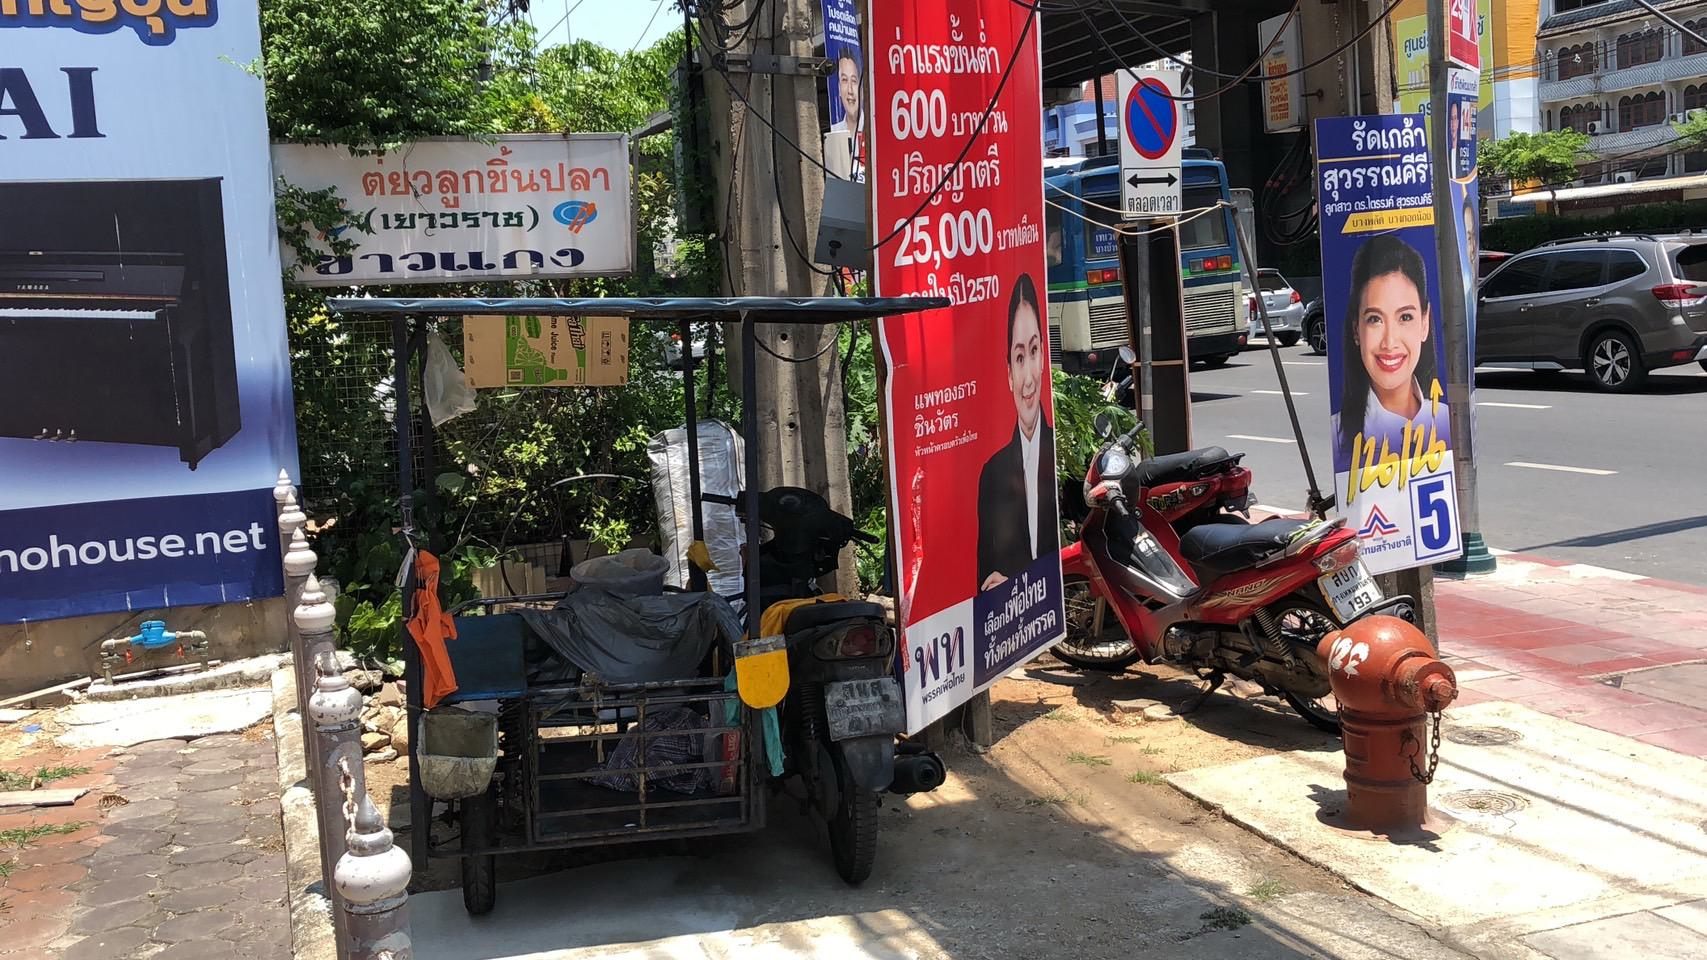Banner: (852, 0, 1110, 733), (1307, 103, 1494, 584)
